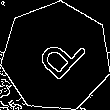P_SW: (26, 26, 86, 88)
